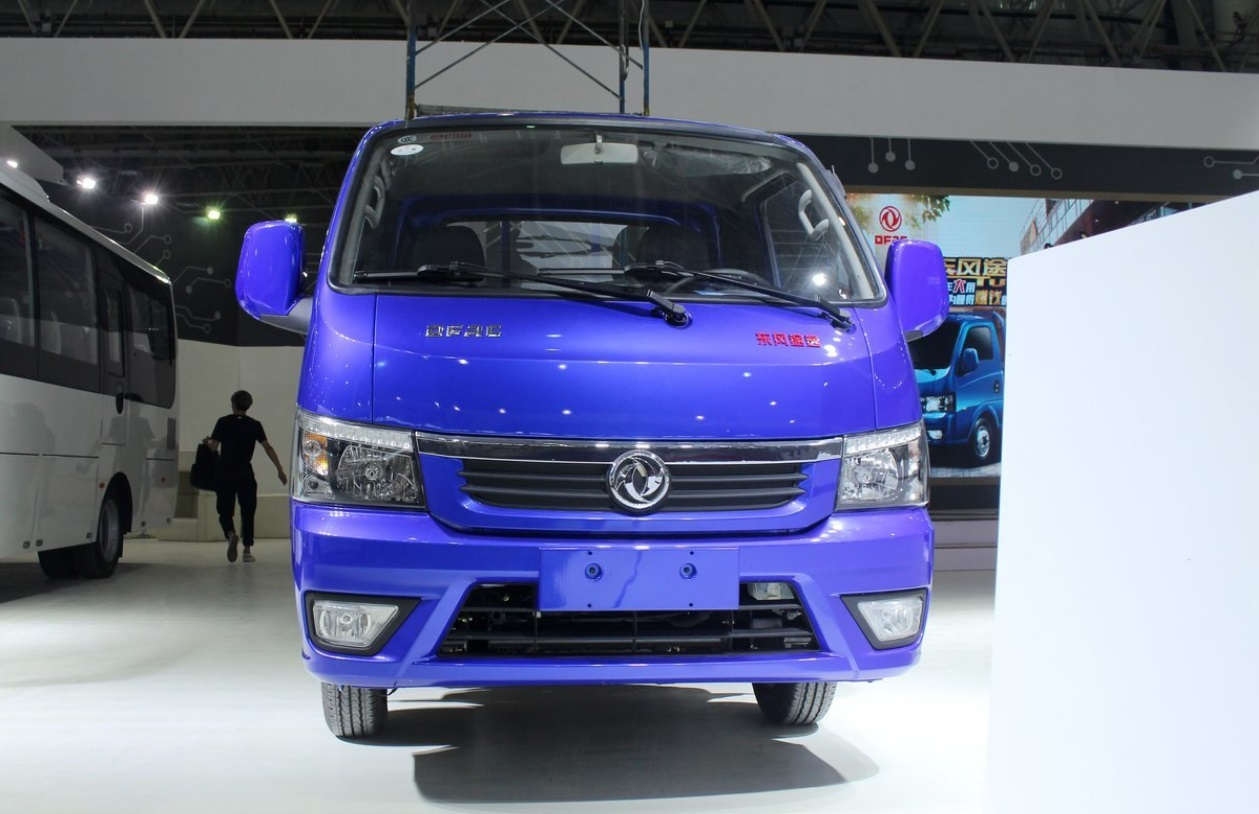truck: (233, 104, 956, 743)
